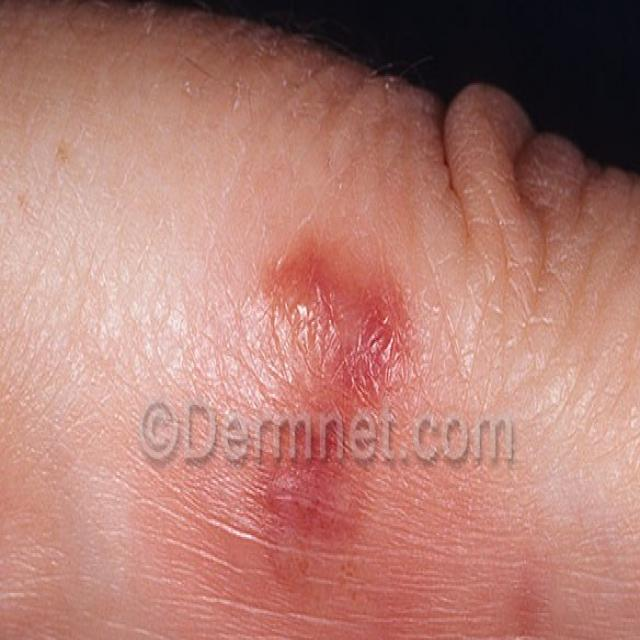Viral Infections: (258, 211, 424, 603)
